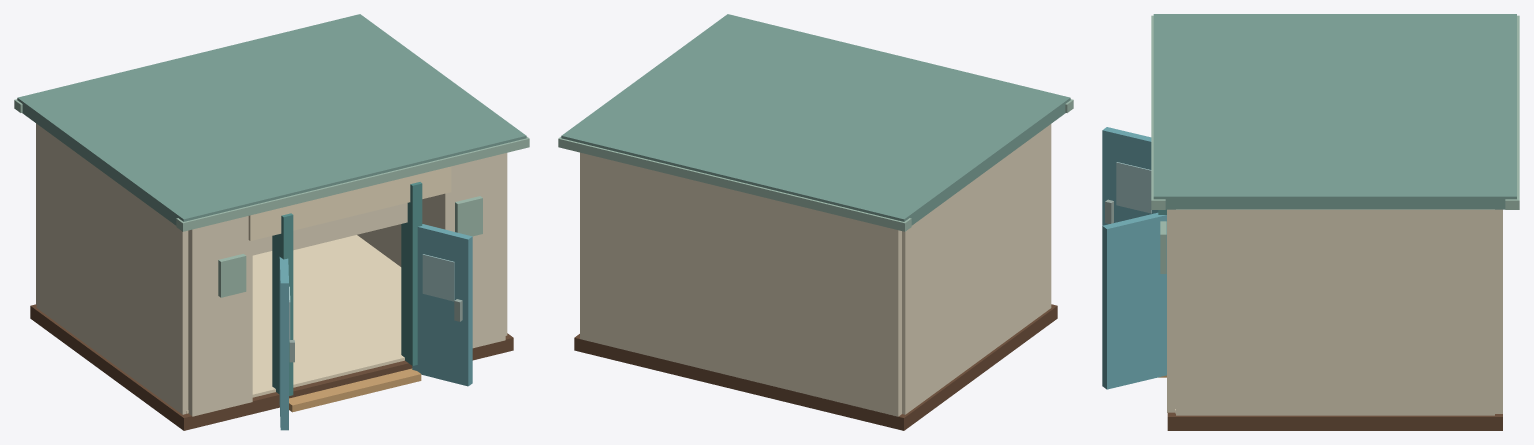
Rendered from cold-storage.glb.
3 views of the same model, side by side, from view 1: azimuth 30°, elevation 25°; view 2: azimuth 150°, elevation 25°; view 3: azimuth 270°, elevation 25° (orthographic). The views are drawn at different scales.
Visible parts, largest first — view 1: cold-storage_roof, cold-storage_wall, cold-storage_cream, door_right_iceDark, cold-storage_roofLight, cold-storage_woodDark, cold-storage_teal, cold-storage_woodLight, door_left_iceDark, door_right_glass; view 2: cold-storage_wall, cold-storage_roof, cold-storage_woodDark, cold-storage_roofLight; view 3: cold-storage_roof, cold-storage_wall, door_right_iceDark, cold-storage_woodDark, door_left_iceDark, cold-storage_roofLight, door_left_glass.
Part boxes in pixels (x1=…): cold-storage_roof: x1=17, y1=14, x2=526, y2=225; cold-storage_wall: x1=36, y1=123, x2=507, y2=416; cold-storage_cream: x1=186, y1=166, x2=451, y2=413; door_right_iceDark: x1=412, y1=224, x2=472, y2=386; cold-storage_roofLight: x1=14, y1=99, x2=529, y2=297; cold-storage_woodDark: x1=30, y1=304, x2=513, y2=430; cold-storage_teal: x1=272, y1=182, x2=422, y2=395; cold-storage_woodLight: x1=289, y1=368, x2=421, y2=412; door_left_iceDark: x1=279, y1=257, x2=288, y2=430; door_right_glass: x1=422, y1=254, x2=454, y2=301; cold-storage_wall: x1=580, y1=124, x2=1051, y2=416; cold-storage_roof: x1=561, y1=14, x2=1070, y2=225; cold-storage_woodDark: x1=574, y1=304, x2=1057, y2=430; cold-storage_roofLight: x1=558, y1=99, x2=1073, y2=231; cold-storage_roof: x1=1153, y1=14, x2=1516, y2=209; cold-storage_wall: x1=1167, y1=209, x2=1502, y2=415; door_right_iceDark: x1=1102, y1=212, x2=1166, y2=389; cold-storage_woodDark: x1=1167, y1=412, x2=1502, y2=430; door_left_iceDark: x1=1102, y1=127, x2=1158, y2=225; cold-storage_roofLight: x1=1151, y1=15, x2=1519, y2=273; door_left_glass: x1=1116, y1=162, x2=1151, y2=213.
Size of the model in its own units: 4.25 by 2.55 by 4.05.
